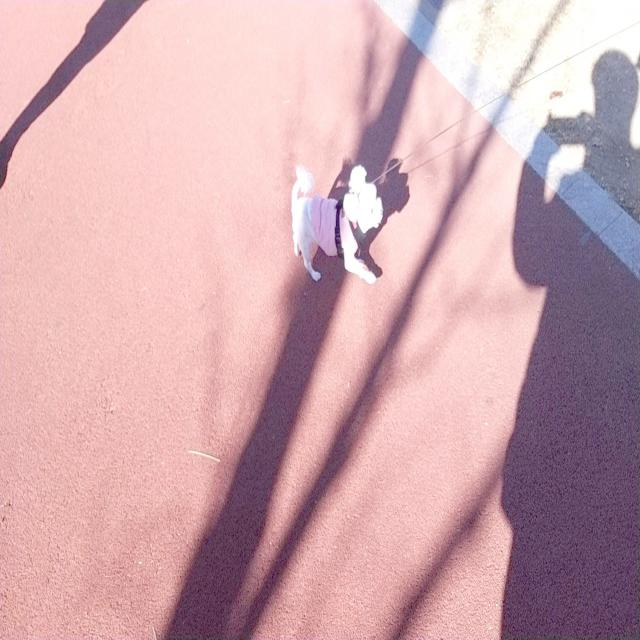Dog: (291, 164, 383, 283)
